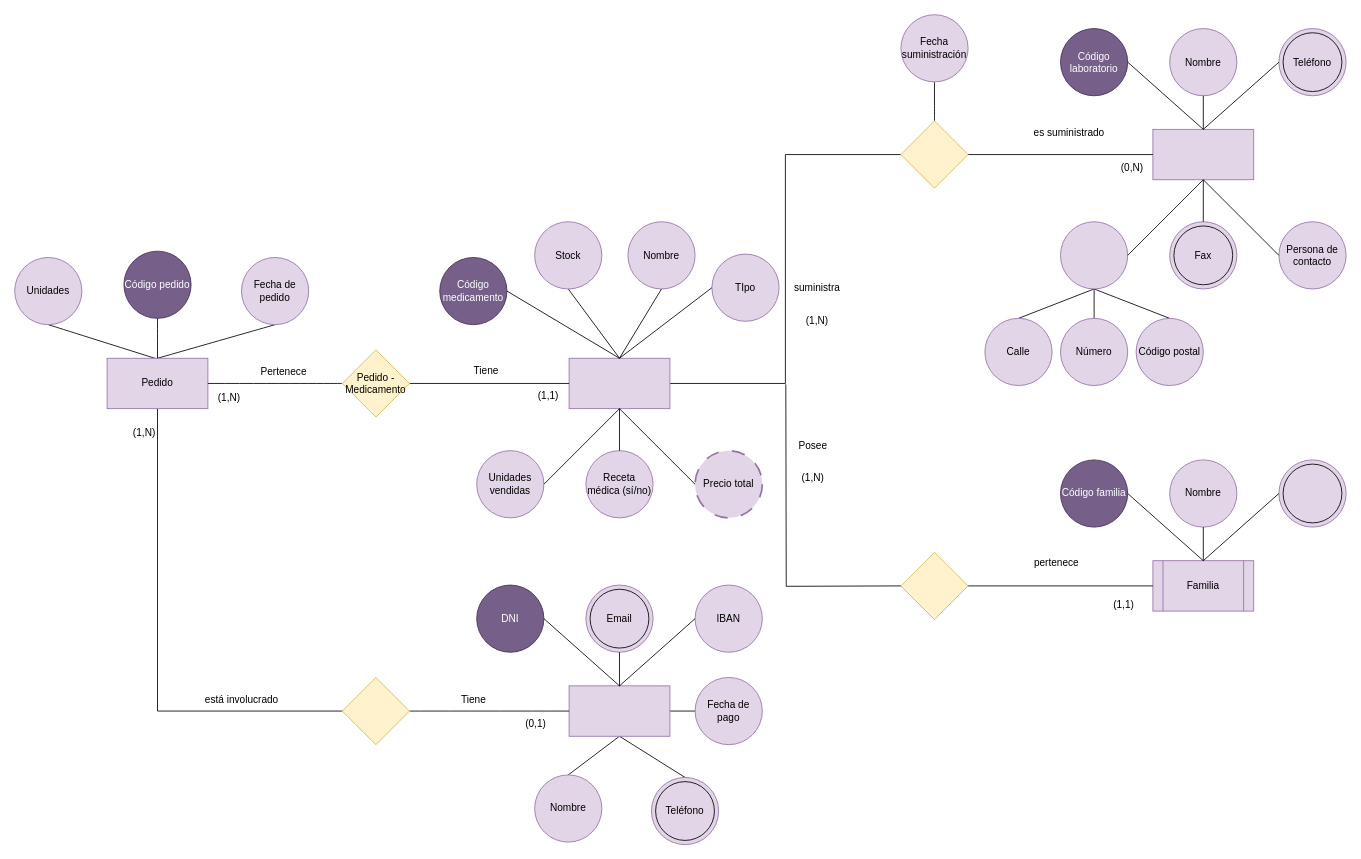
The diagram is 1361 pixels wide and 859 high, and some of its shapes have lost their labels. The shapes that lost their labels are listed below. From the top down, each one's centre as x and y in pixels, then its label:
At (934,154): "Medicamento - Laboratorio".
At (1203,154): "Laboratorio".
At (1094,255): "Dirección postal".
At (619,383): "Medicamento".
At (1312,493): "Enfermedades".
At (934,585): "Medicamento - Familia".
At (375,711): "Pedido - Cliente".
At (619,710): "Cliente con crédito".
